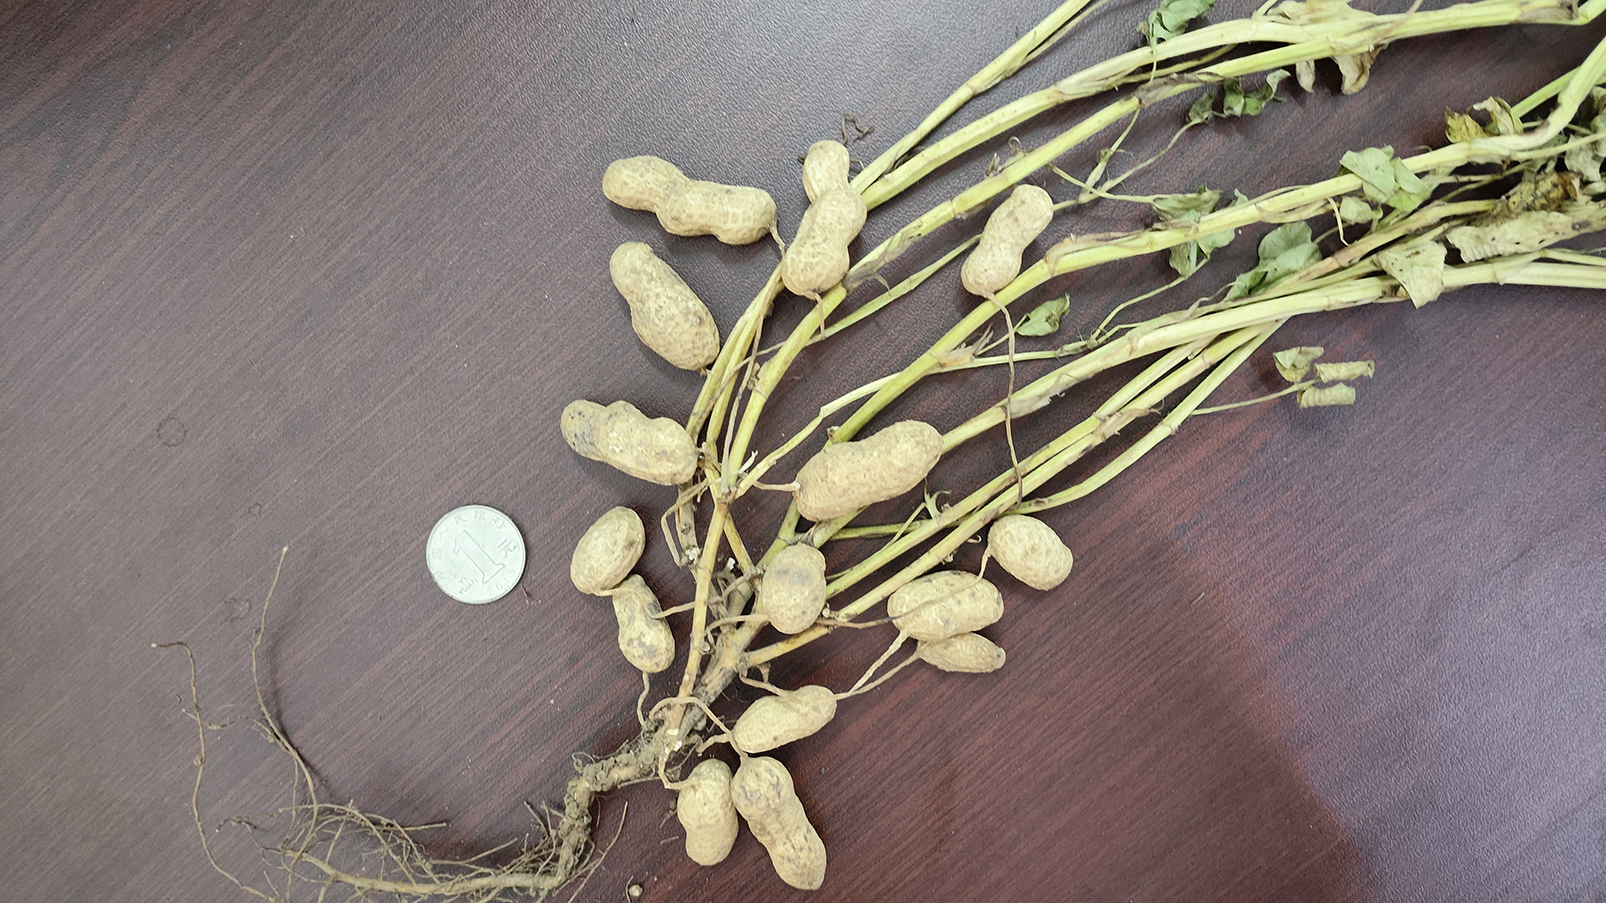h: (603, 151, 775, 249), (793, 420, 944, 523), (609, 238, 720, 367), (783, 138, 868, 295), (732, 754, 827, 889), (560, 396, 696, 485), (960, 182, 1054, 294), (889, 565, 1005, 639), (732, 686, 841, 756), (570, 503, 647, 595), (675, 759, 740, 868), (987, 515, 1074, 590), (759, 546, 829, 637), (614, 576, 673, 670), (916, 634, 1005, 673)
